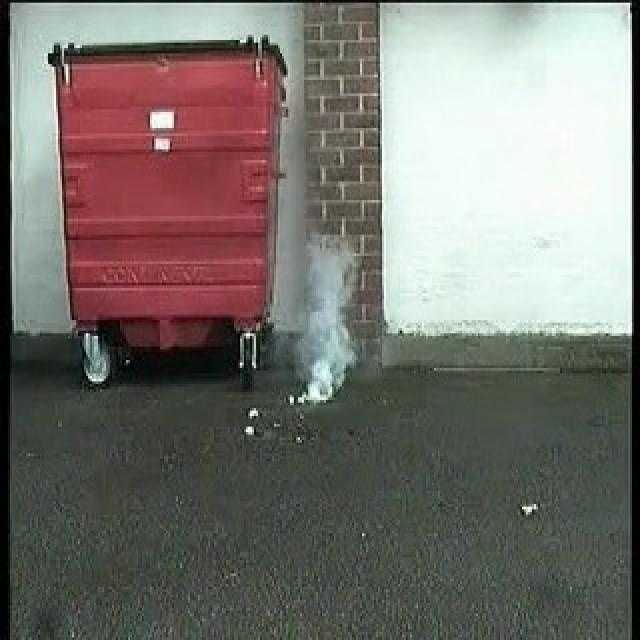Smoke: (296, 236, 356, 405)
